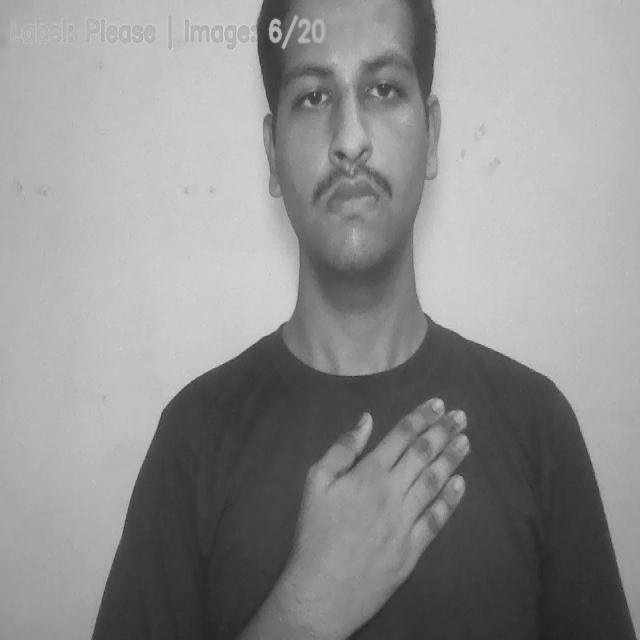Please: (292, 397, 468, 640)
